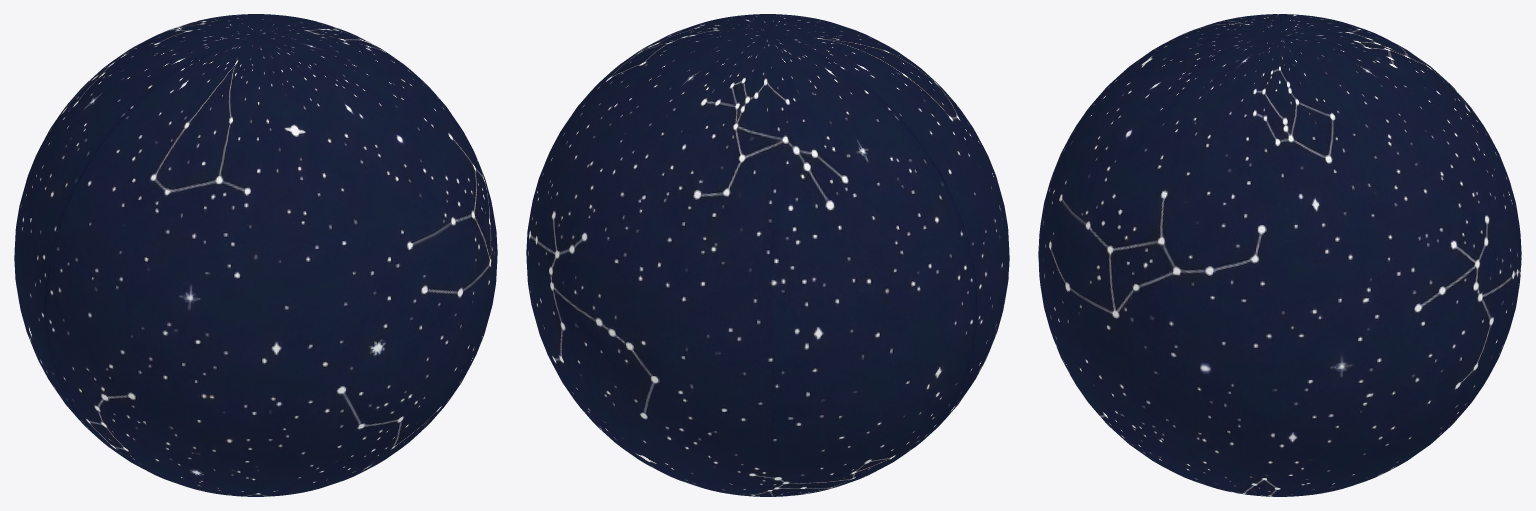
File: constellation_sky_dome.glb
3 renders of one model, left to right at view 1: azimuth 30°, elevation 25°; view 2: azimuth 150°, elevation 25°; view 3: azimuth 270°, elevation 25°, orthographic.
Visible parts, largest first — view 1: Object_2; view 2: Object_2; view 3: Object_2.
Boxes of the visible parts, box(x1,y1,x2,y2) form: Object_2: box(14, 14, 497, 496); Object_2: box(526, 14, 1009, 496); Object_2: box(1038, 14, 1521, 496).
Bounding box in the file's own units: 34.14 × 34.14 × 34.14.
Materials: 1 (1 with a texture image).
